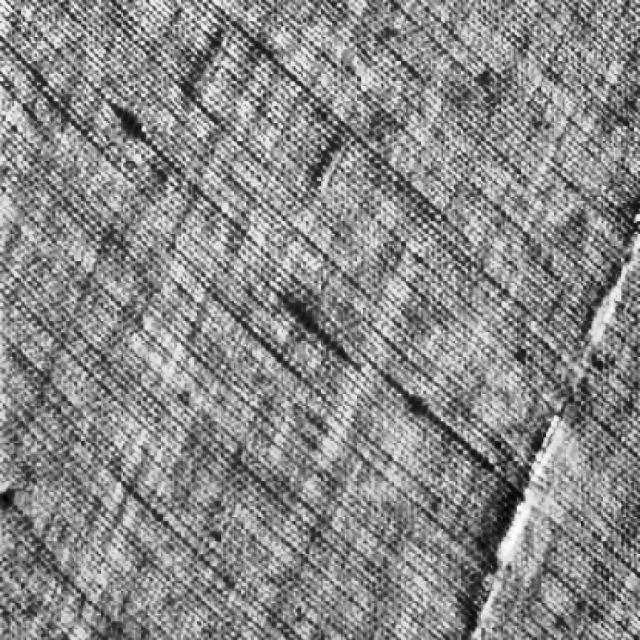thread_error: (448, 242, 639, 640)
